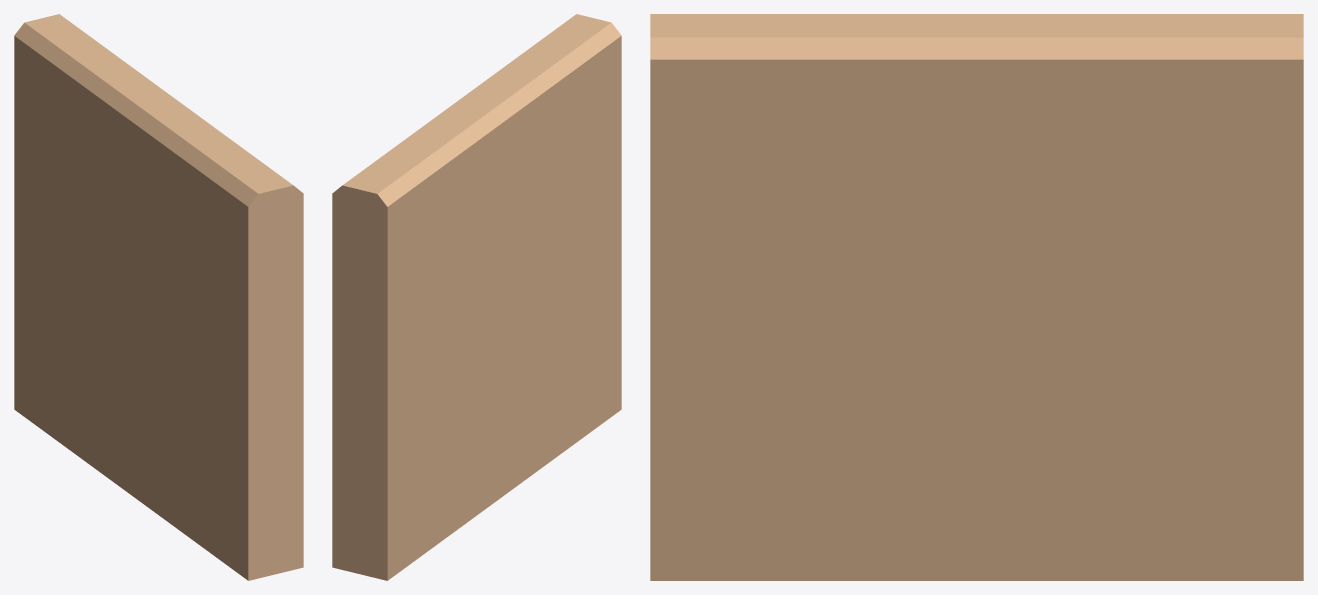
The model's file is Wall B.fbx.
The picture shows the model from 3 angles, left to right: view 1: azimuth 30°, elevation 25°; view 2: azimuth 150°, elevation 25°; view 3: azimuth 270°, elevation 25°; orthographic projection. The views are drawn at different scales.
Visible parts, largest first — view 1: Wall B; view 2: Wall B; view 3: Wall B.
Boxes of the visible parts, x1,y1,x2,y2 form: Wall B: (14, 14, 303, 580); Wall B: (332, 14, 621, 580); Wall B: (650, 14, 1303, 580).
Size of the model in its own units: 20.44 by 136 by 150.
